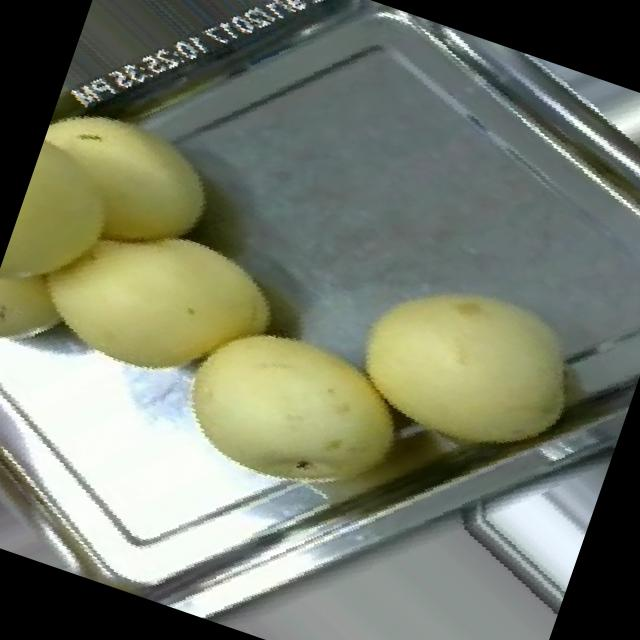Fruit: (307, 214, 629, 513), (7, 166, 314, 432), (142, 276, 446, 544), (0, 60, 258, 361)
